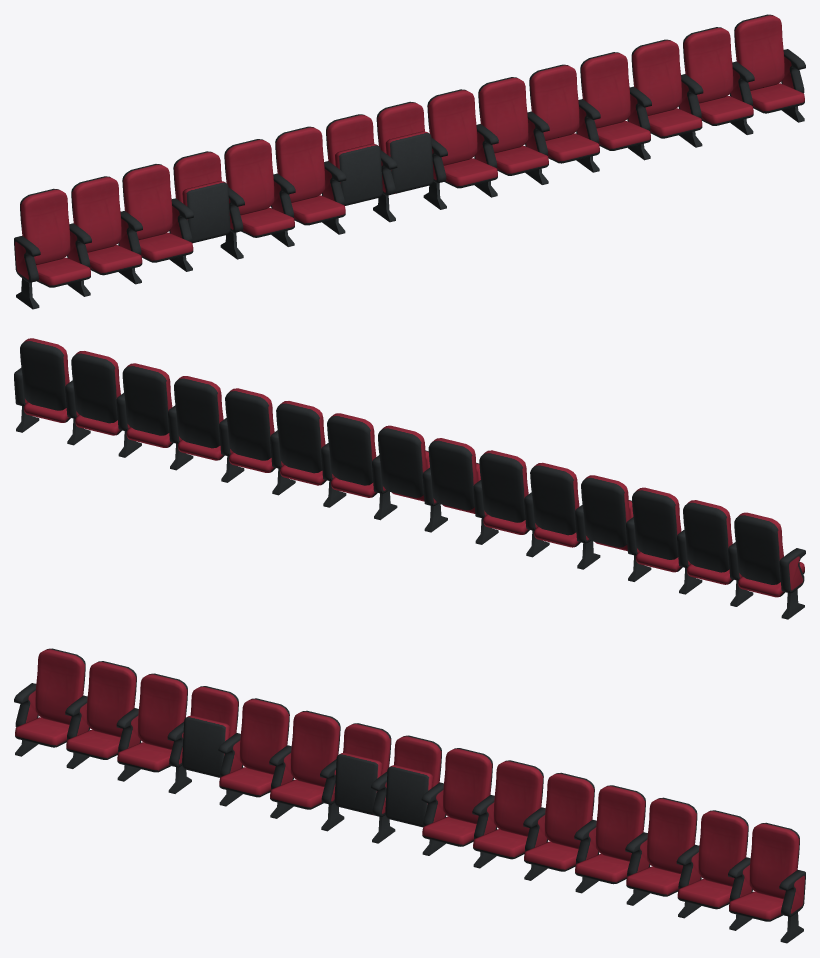
The model's file is CinemaArmChair01_b.FBX.
3 views of the same model, one above another, from view 1: azimuth 30°, elevation 25°; view 2: azimuth 150°, elevation 25°; view 3: azimuth 330°, elevation 25° (orthographic).
Visible parts, largest first — view 1: CinemaArmChair01_b; view 2: CinemaArmChair01_b; view 3: CinemaArmChair01_b.
Part boxes in pixels (box(x1,y1,x2,y2)): CinemaArmChair01_b: box(14, 14, 805, 309); CinemaArmChair01_b: box(14, 338, 805, 619); CinemaArmChair01_b: box(14, 648, 805, 943).
Bounding box in the file's own units: 1294 × 154 × 92.31.
